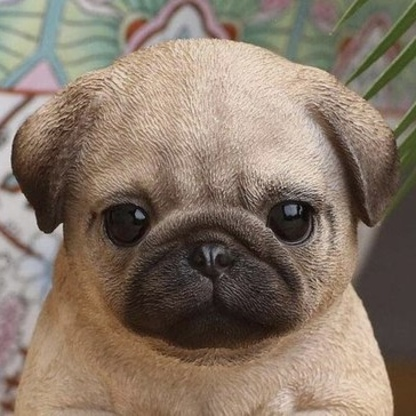Pug: (3, 28, 404, 416)
